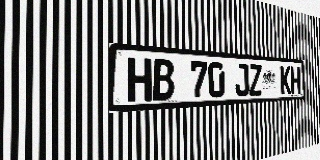0: (208, 62, 225, 98)
7: (189, 61, 208, 99)
B: (152, 58, 174, 101)
H: (127, 57, 152, 102), (290, 66, 301, 94)
J: (235, 63, 249, 97)
K: (280, 66, 291, 95)
Z: (249, 64, 262, 96)
